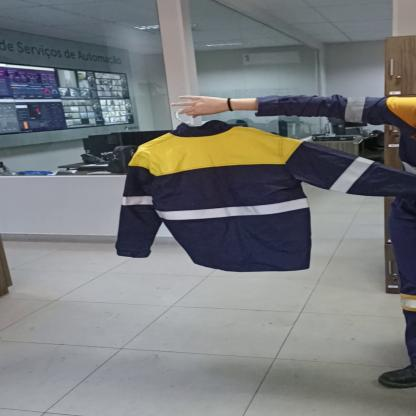C_eletrica: (115, 123, 416, 275)
